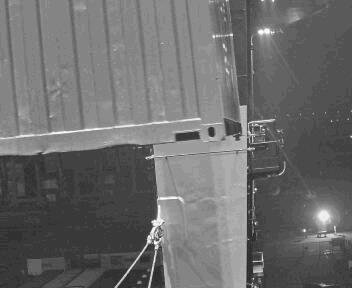twist_lock_1: (228, 128, 245, 147)
